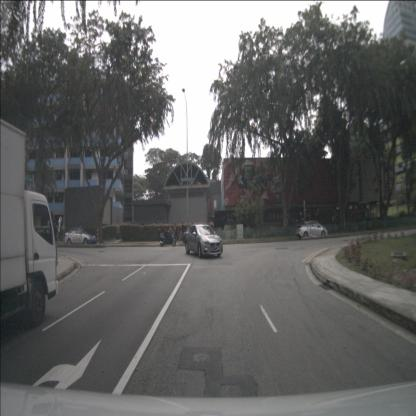human-pedestrian-adult: (52, 219, 60, 264), (180, 222, 184, 242), (174, 223, 178, 242)
vehicle-car: (184, 223, 224, 260), (64, 225, 97, 246), (295, 220, 328, 239)
vehicle-motorcycle: (158, 224, 176, 248)
vehicle-truck: (0, 112, 64, 329)
